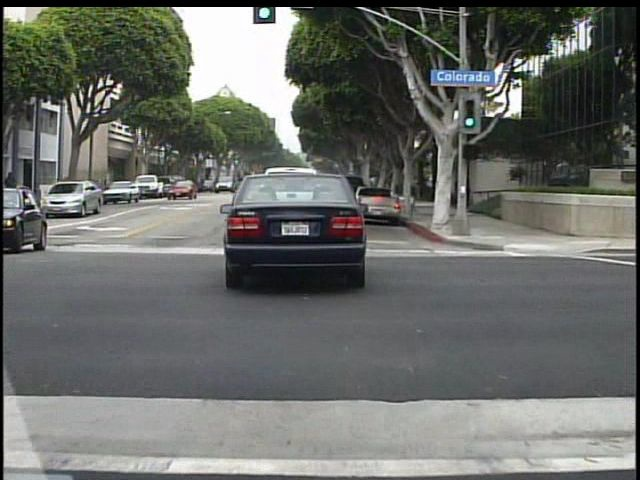person: (5, 169, 22, 209)
